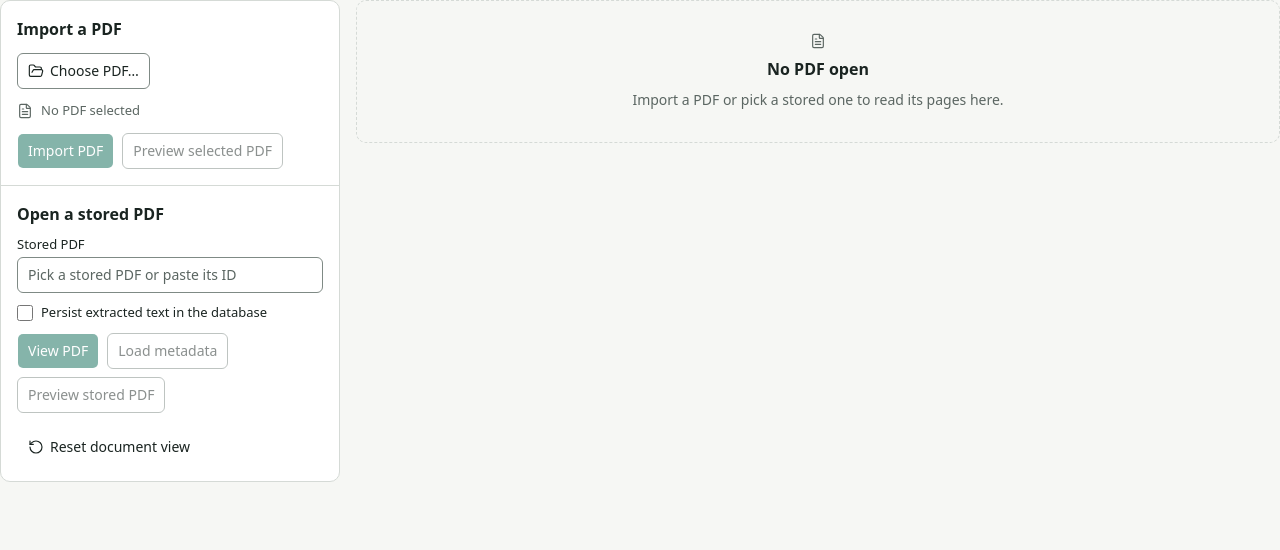
it: documents page › shows the file name and enables import and preview after a choice
What coordinates should you click on to do the following:
click the button with aria-label "Choose a PDF without importing it"
I would click on:
 (83, 71)
Its box is [17,53,150,89].
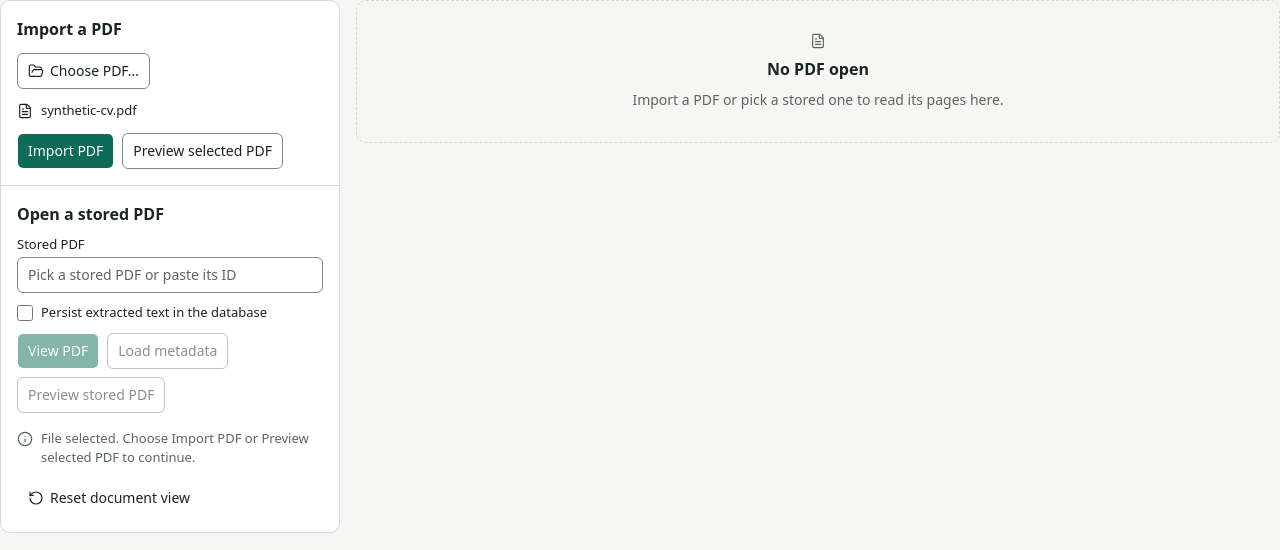
Now the text "File selected. Choose Import PDF or Preview selected PDF to continue." is shown, box [41,428,323,468]
Now the text "synthetic-cv.pdf" is shown, box [41,101,137,120]
Now the button "Import PDF" is enabled, box [17,132,114,168]
